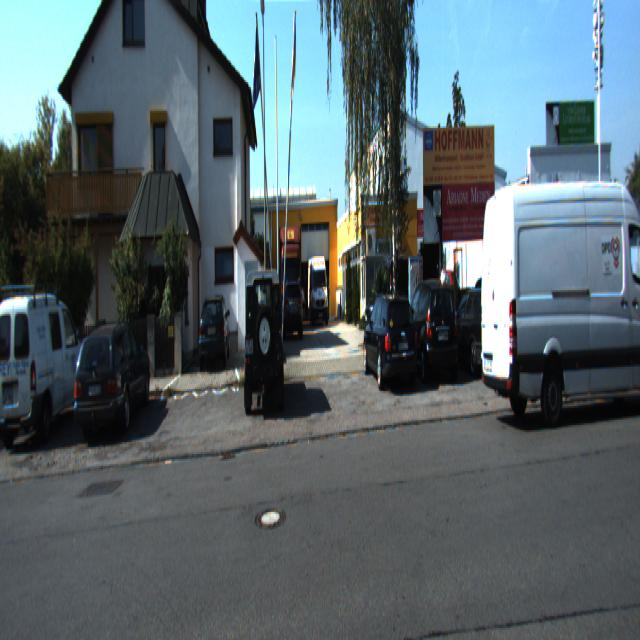Car: (477, 167, 640, 427), (0, 280, 92, 445), (74, 316, 152, 438), (398, 277, 460, 388), (441, 288, 514, 381), (241, 266, 284, 418), (361, 288, 420, 396), (0, 358, 52, 437), (197, 293, 231, 371), (278, 224, 301, 332), (306, 248, 328, 325), (282, 276, 302, 337)
